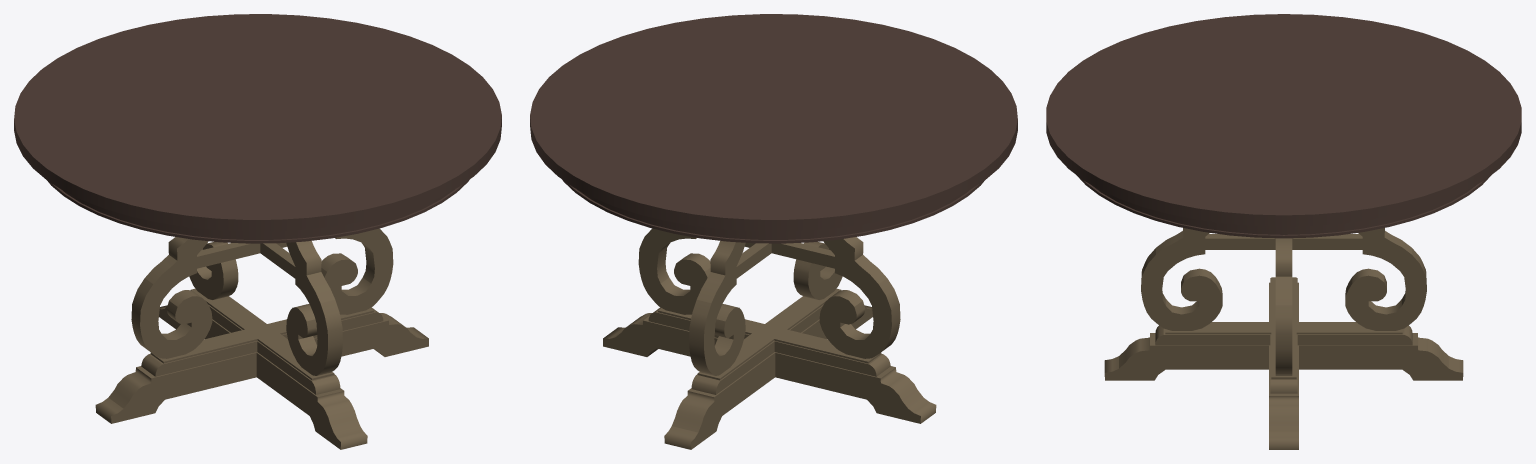
The model's file is Table.fbx.
3 views of the same model, side by side, from view 1: azimuth 30°, elevation 25°; view 2: azimuth 150°, elevation 25°; view 3: azimuth 270°, elevation 25° (orthographic). The views are drawn at different scales.
Parts seen in each view (by area): view 1: TableTop, TableLeg1, TableLeg2; view 2: TableTop, TableLeg1, TableLeg2; view 3: TableTop, TableLeg2, TableLeg1.
Part boxes in pixels (bbox=[...]): TableTop: bbox=[14, 14, 501, 243]; TableLeg1: bbox=[95, 228, 428, 423]; TableLeg2: bbox=[159, 241, 367, 449]; TableTop: bbox=[530, 14, 1017, 243]; TableLeg1: bbox=[603, 228, 936, 423]; TableLeg2: bbox=[664, 241, 872, 449]; TableTop: bbox=[1046, 14, 1521, 238]; TableLeg2: bbox=[1104, 228, 1463, 380]; TableLeg1: bbox=[1269, 238, 1298, 449].
Size of the model in its own units: 10.79 by 6.43 by 10.76.
